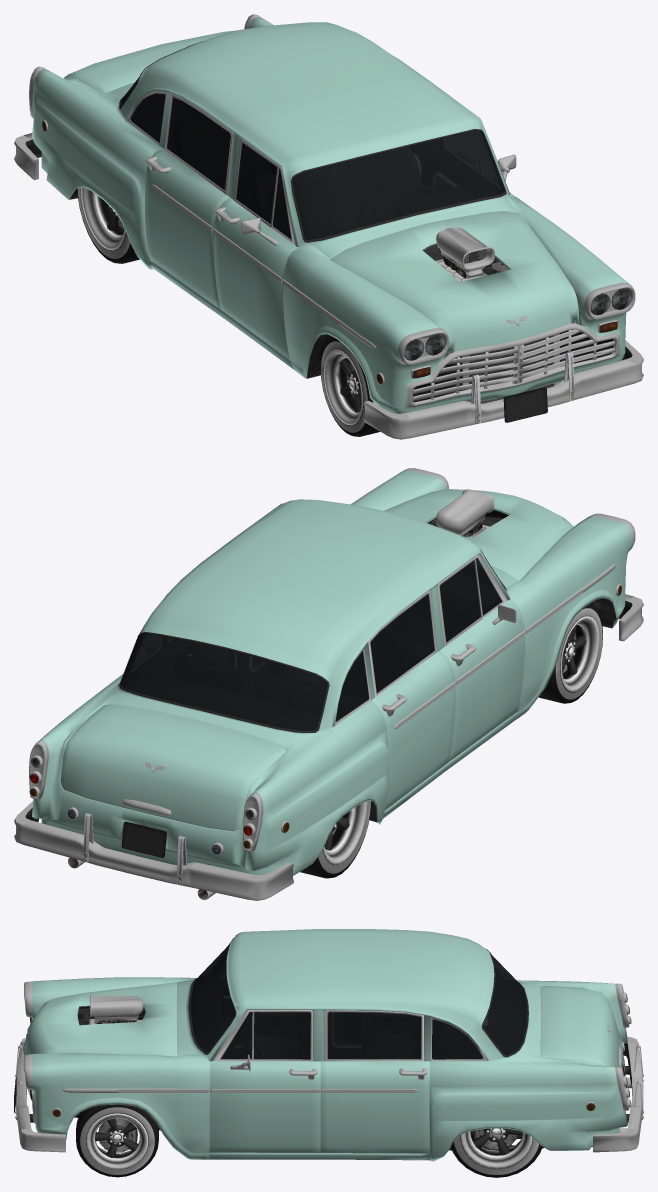
Rendered from veicolo_epoca_berlina_75.glb.
3 renders of one model, top to bottom at view 1: azimuth 30°, elevation 25°; view 2: azimuth 150°, elevation 25°; view 3: azimuth 270°, elevation 25°, orthographic. The views are drawn at different scales.
Parts seen in each view (by area): view 1: sb_modello; view 2: sb_modello; view 3: sb_modello.
Part boxes in pixels (left/top/right/bottom): sb_modello: left=14, top=14, right=643, bottom=439; sb_modello: left=14, top=468, right=643, bottom=900; sb_modello: left=14, top=929, right=643, bottom=1177.
Size of the model in its own units: 2.13 by 1.63 by 5.3.
6 materials, 5 textured.
